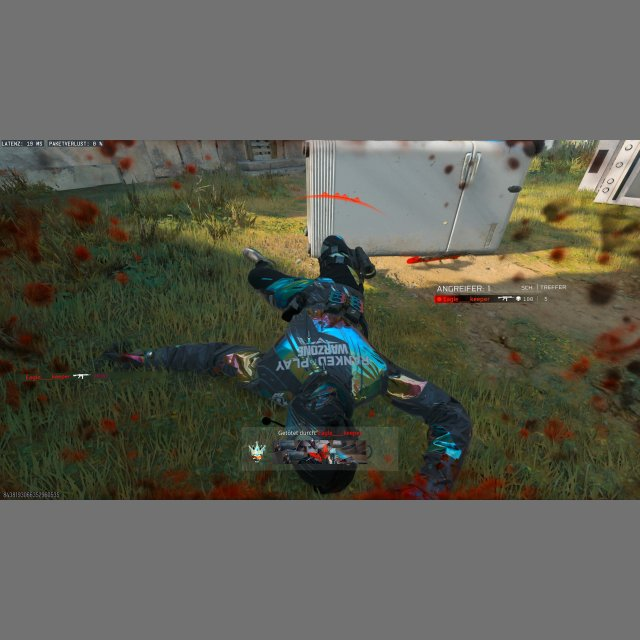player: (92, 234, 473, 495)
